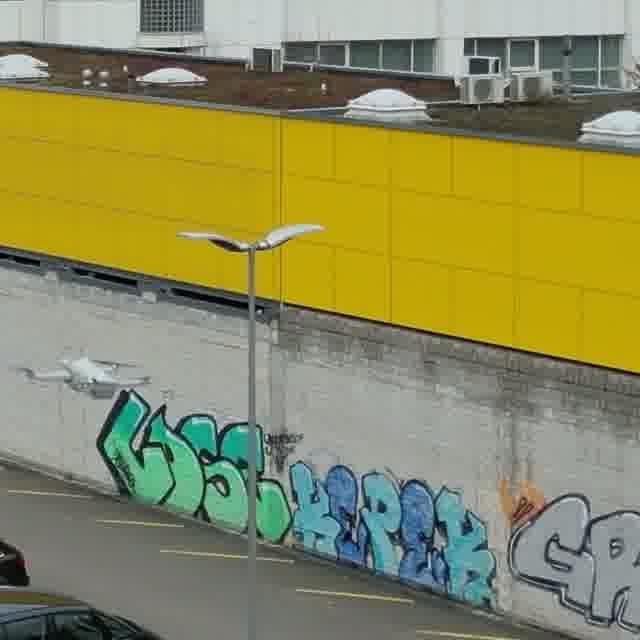Drohne: (12, 355, 152, 397)
